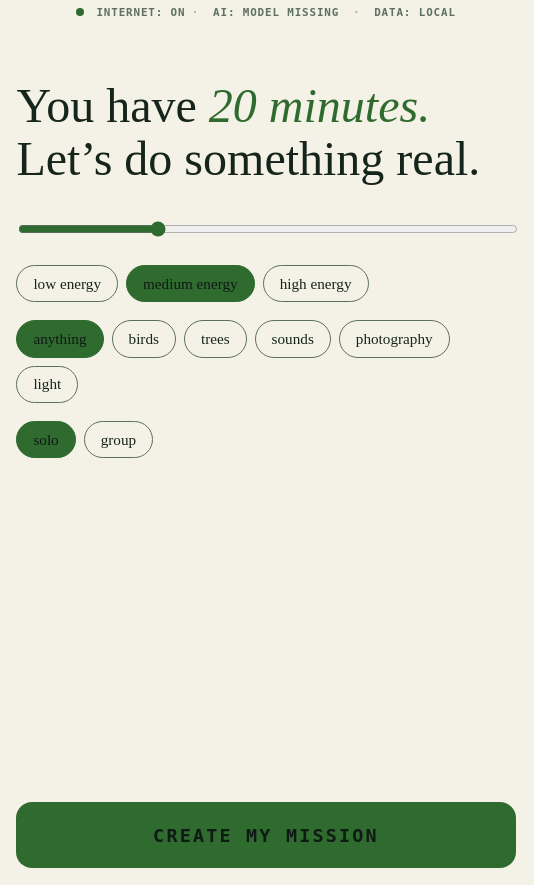
Test case: create mission shows card with safety note
Click the button "CREATE MY MISSION" at point(266, 835), box [16, 802, 516, 868]
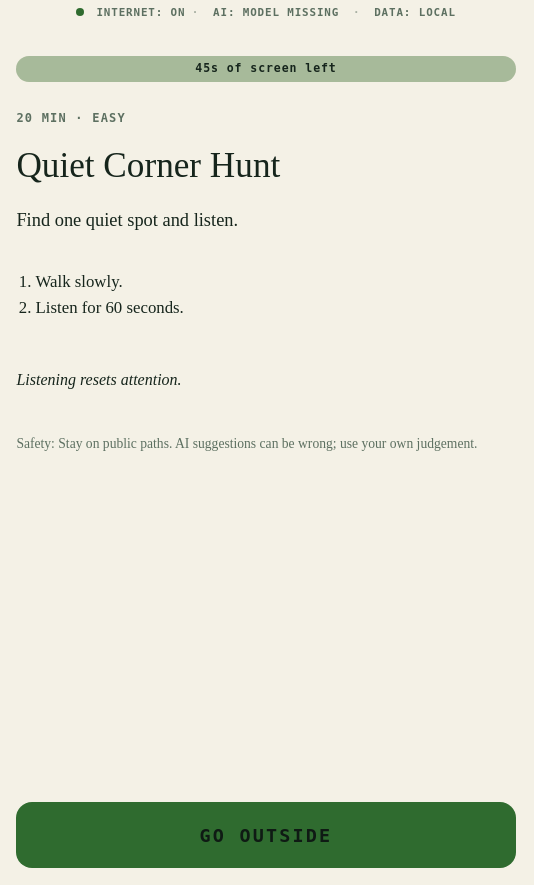
Expected: the heading "Quiet Corner Hunt" is shown, [16, 146, 280, 185]
Expected: the text "Stay on public paths" is shown, [58, 436, 172, 451]
